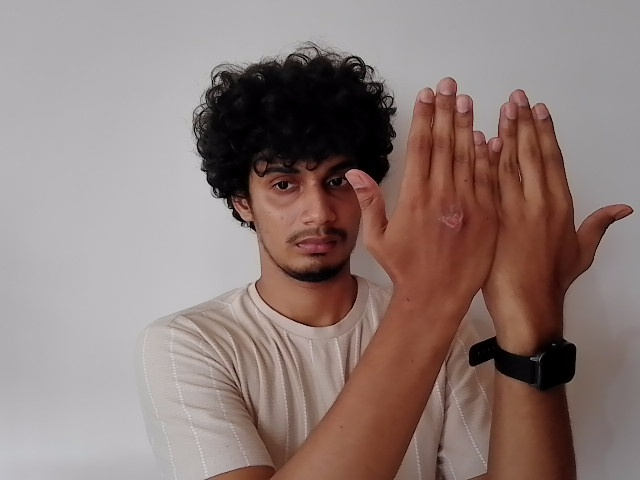school: (352, 75, 636, 315)
